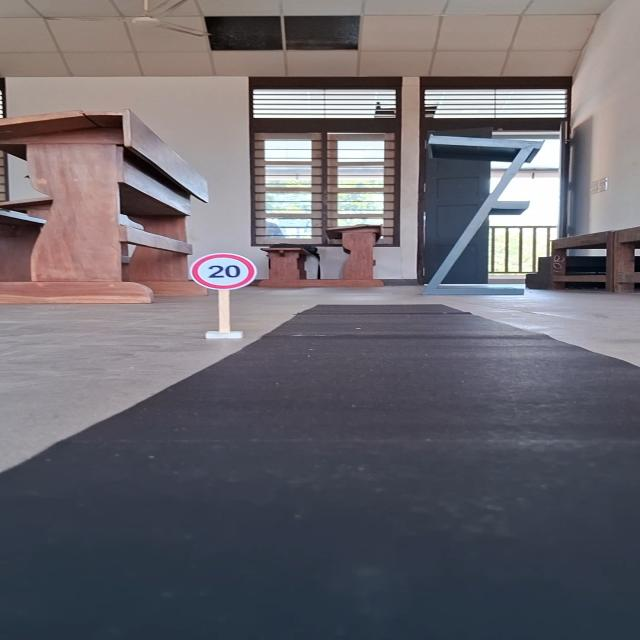Speed20: (188, 251, 264, 291)
